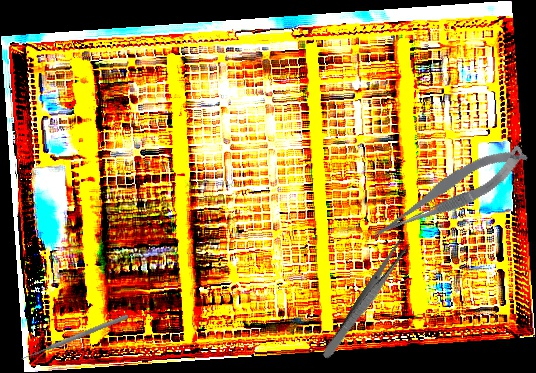Dressing Forceps: (320, 236, 412, 363)
Micro Scissor: (361, 139, 536, 246)
Pusher: (19, 312, 130, 363)
